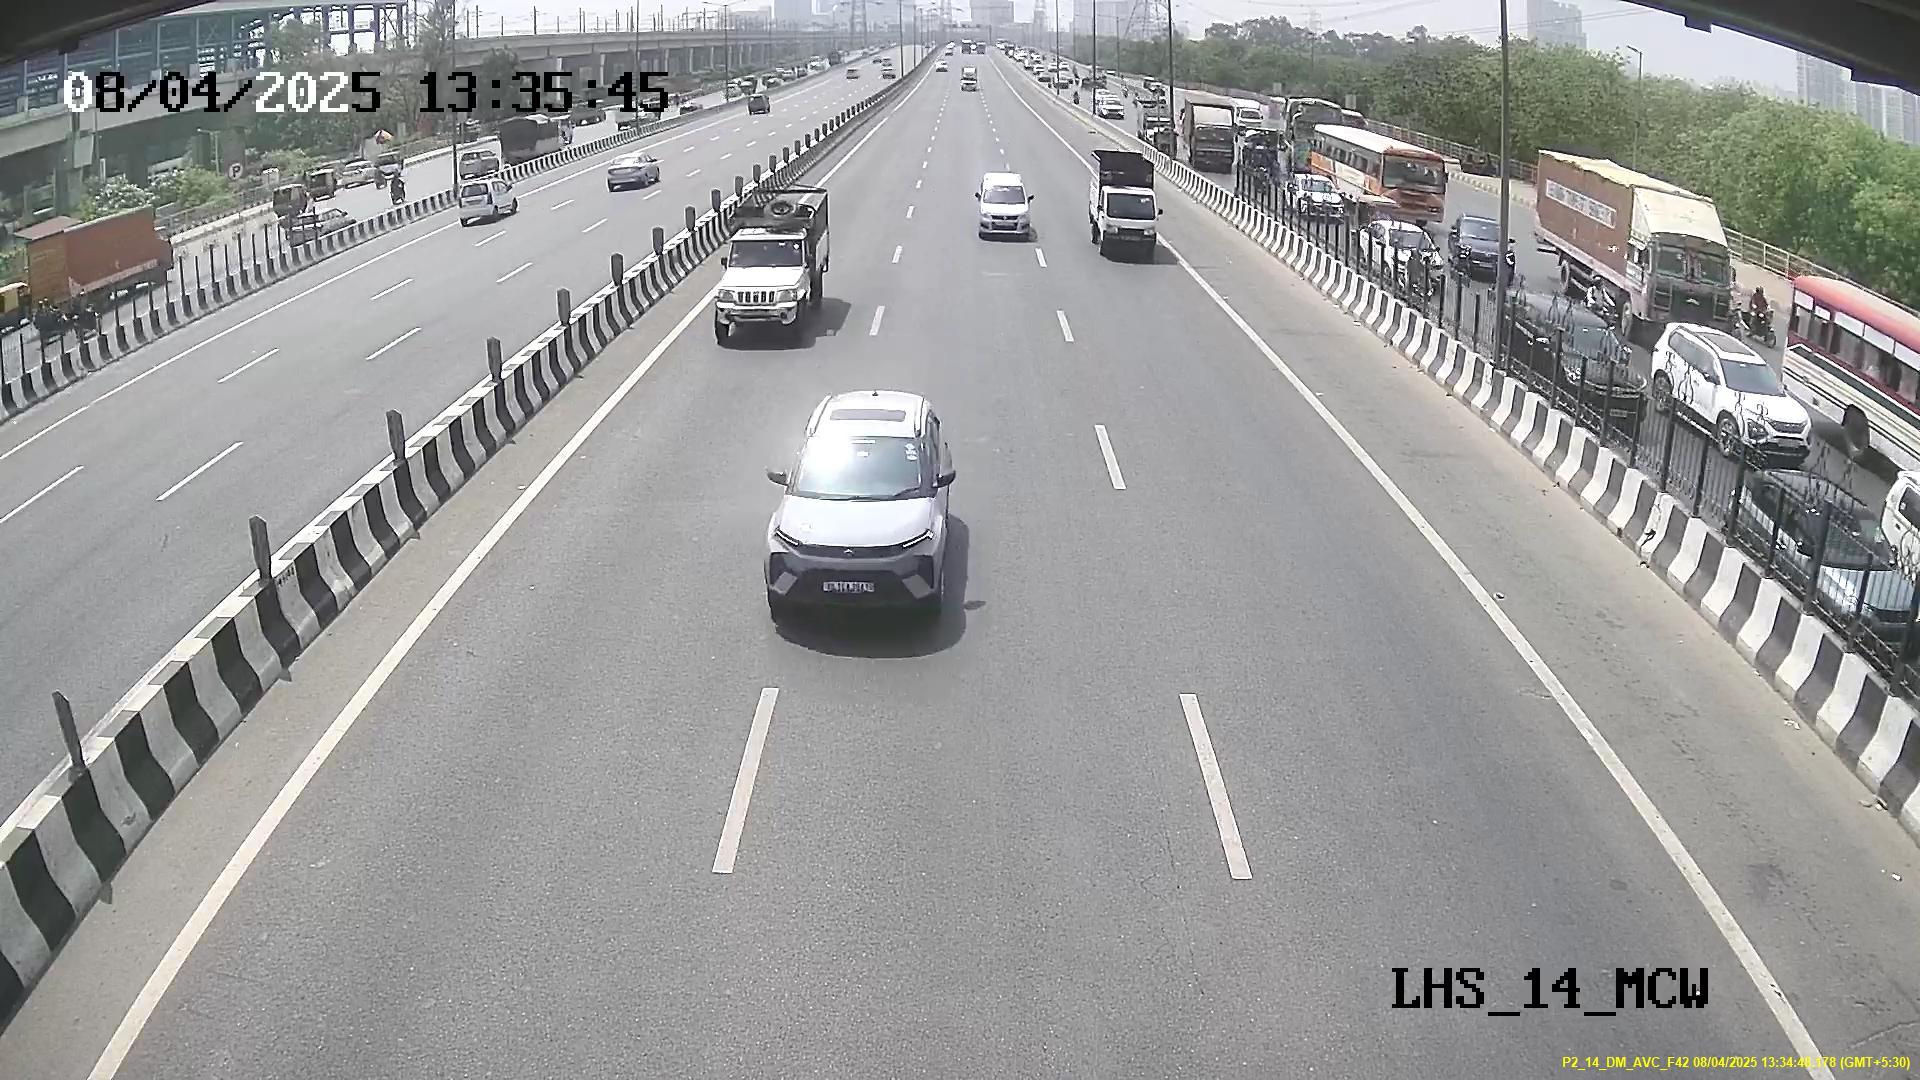car: (762, 414, 951, 632), (709, 219, 820, 343), (1092, 173, 1162, 268), (977, 169, 1033, 245)
